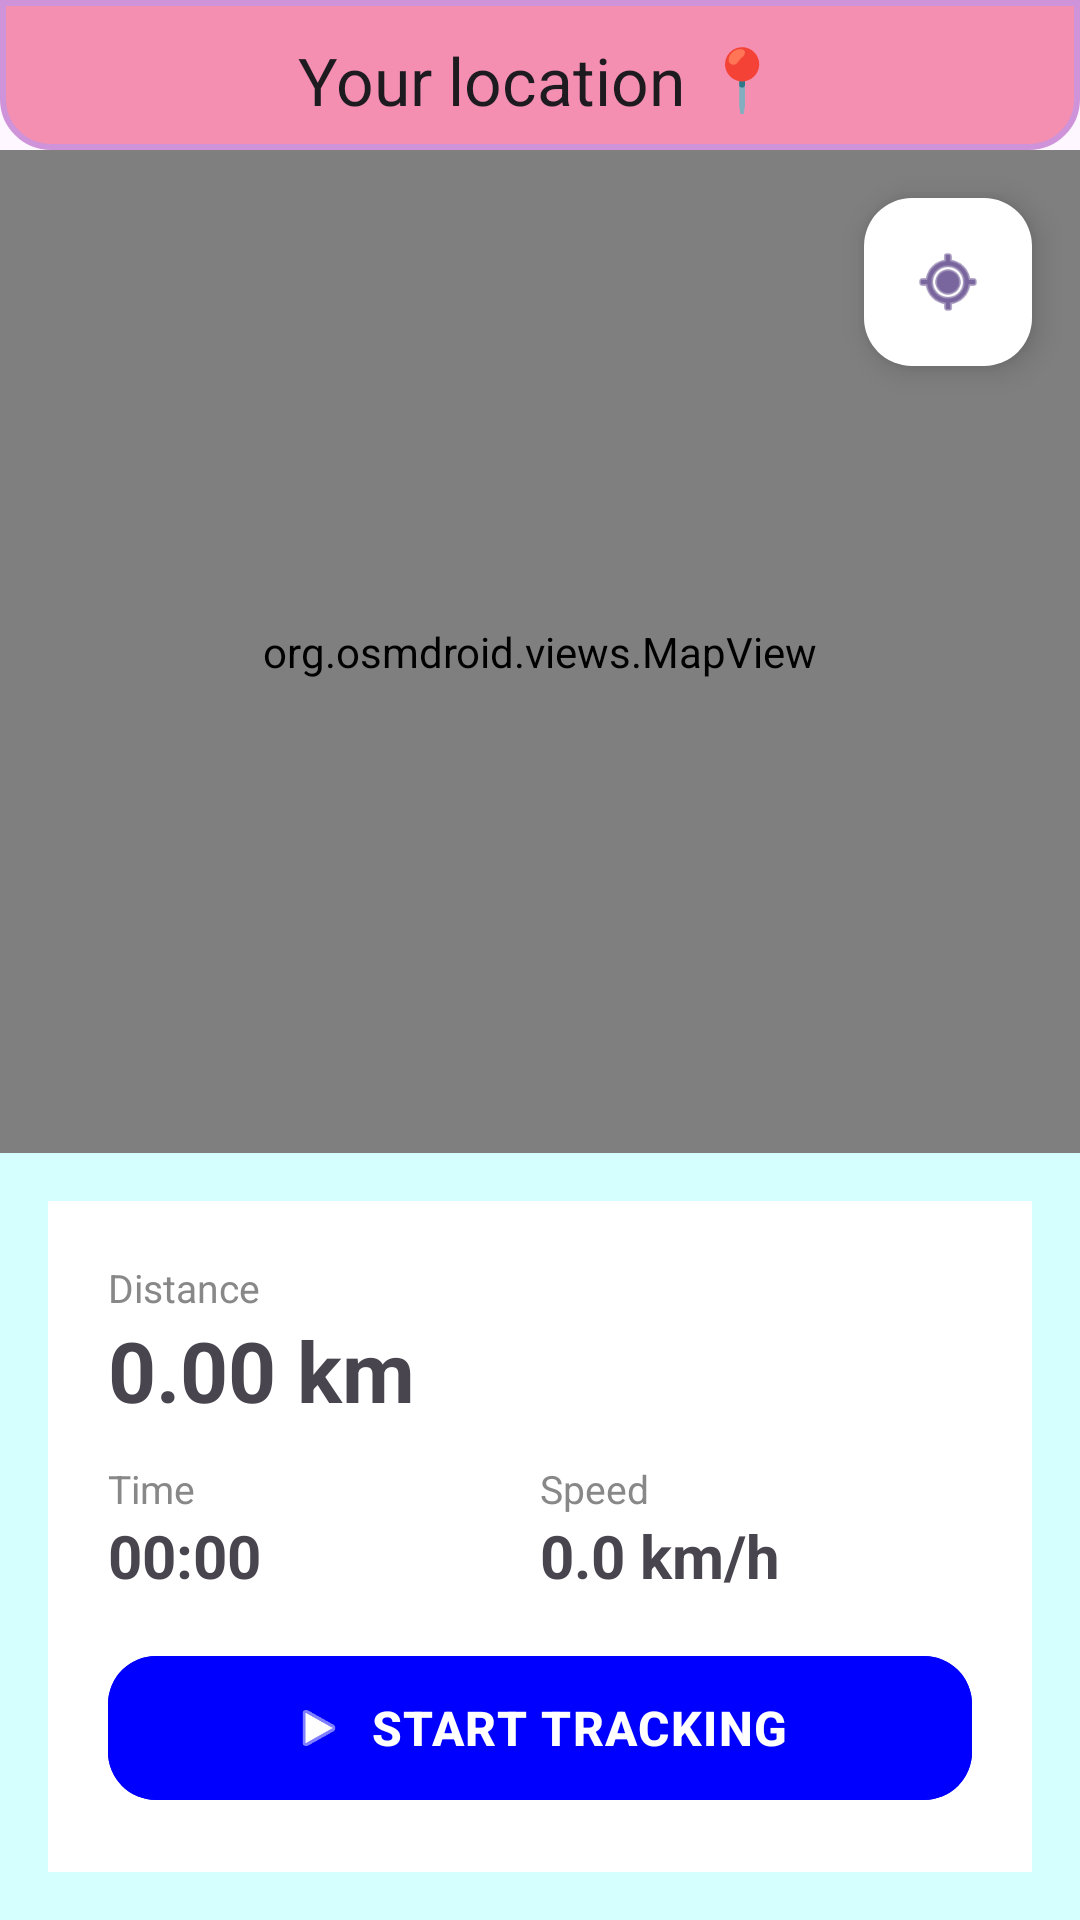

Named icons in this screenshot (1080 × 1920) and their bounding boxes, {"left": x1, "top": y1, "right": x2, "bottom": y2}:
Recenter to current location: {"left": 864, "top": 198, "right": 1032, "bottom": 366}
